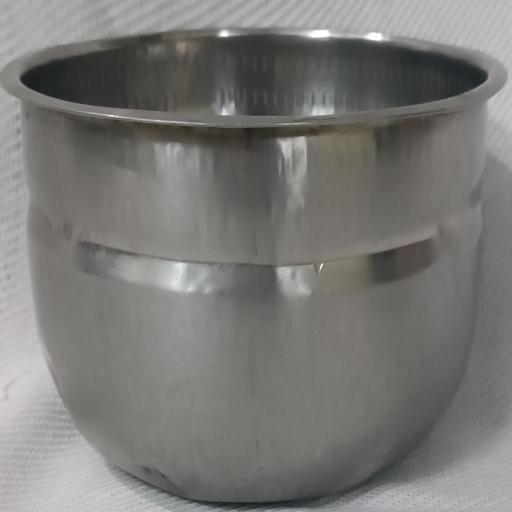vessel: (2, 29, 506, 501)
